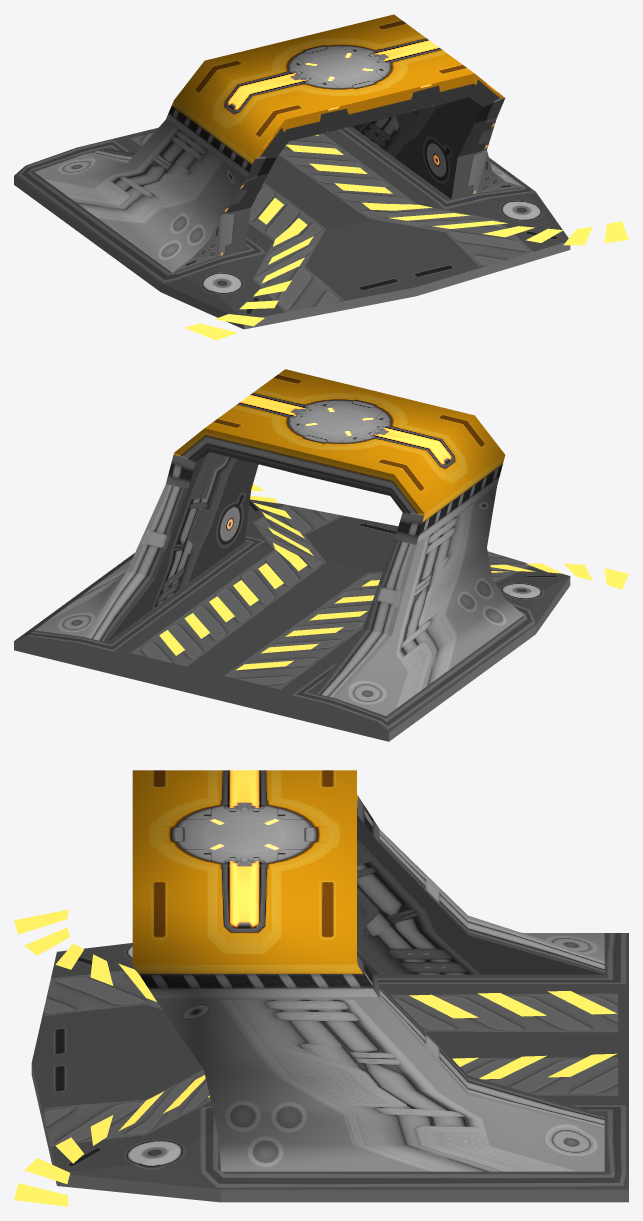
File: goods-gate.glb
3 renders of one model, top to bottom at view 1: azimuth 30°, elevation 25°; view 2: azimuth 150°, elevation 25°; view 3: azimuth 270°, elevation 25°, orthographic. The views are drawn at different scales.
Visible parts, largest first — view 1: Plane.036; view 2: Plane.036; view 3: Plane.036.
Part boxes in pixels (bbox=[...]): Plane.036: bbox=[14, 14, 628, 340]; Plane.036: bbox=[14, 369, 628, 741]; Plane.036: bbox=[14, 770, 628, 1206].
Bounding box in the file's own units: 26.21 × 9.9 × 22.93.
1 material, 1 textured.
